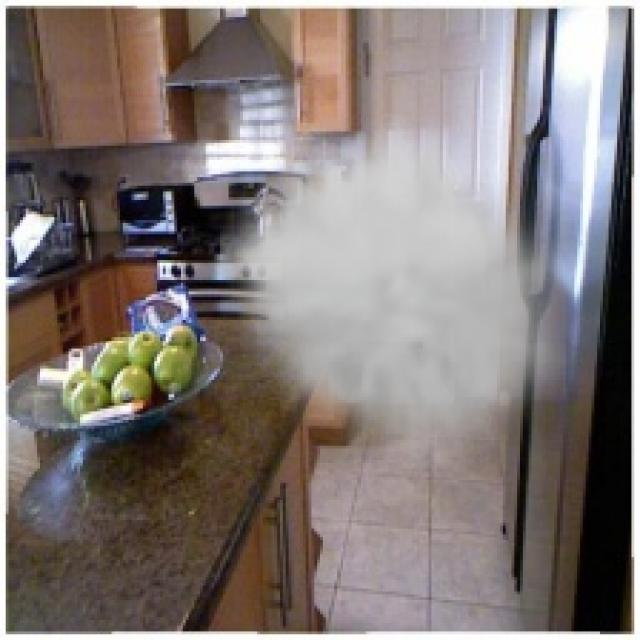smoke: (220, 114, 566, 469)
